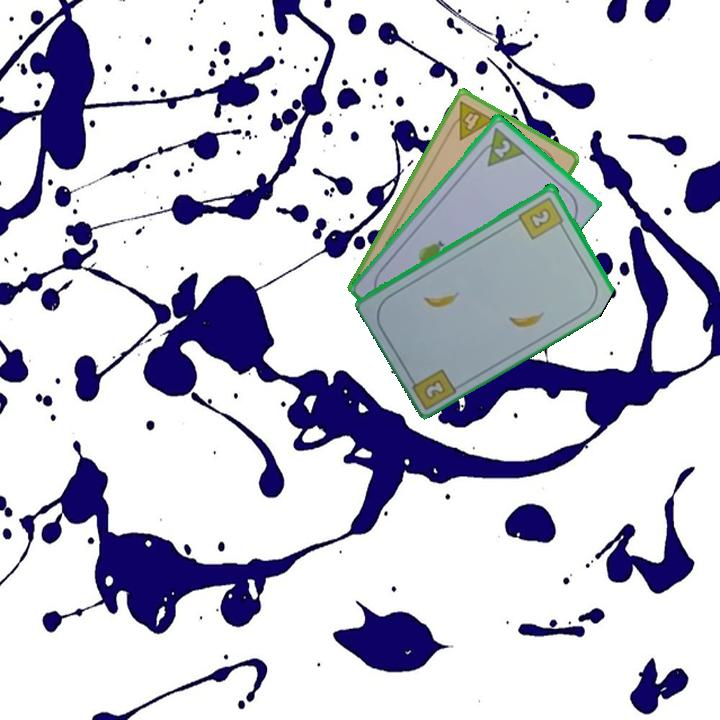2b: (515, 193, 568, 242), (420, 375, 449, 402)
2p: (490, 135, 513, 160)
4p: (444, 97, 497, 143)
